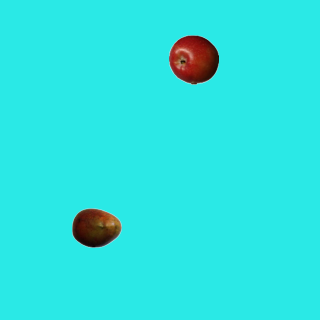Apple Braeburn: (168, 34, 218, 84)
Mango Red: (71, 202, 121, 252)
